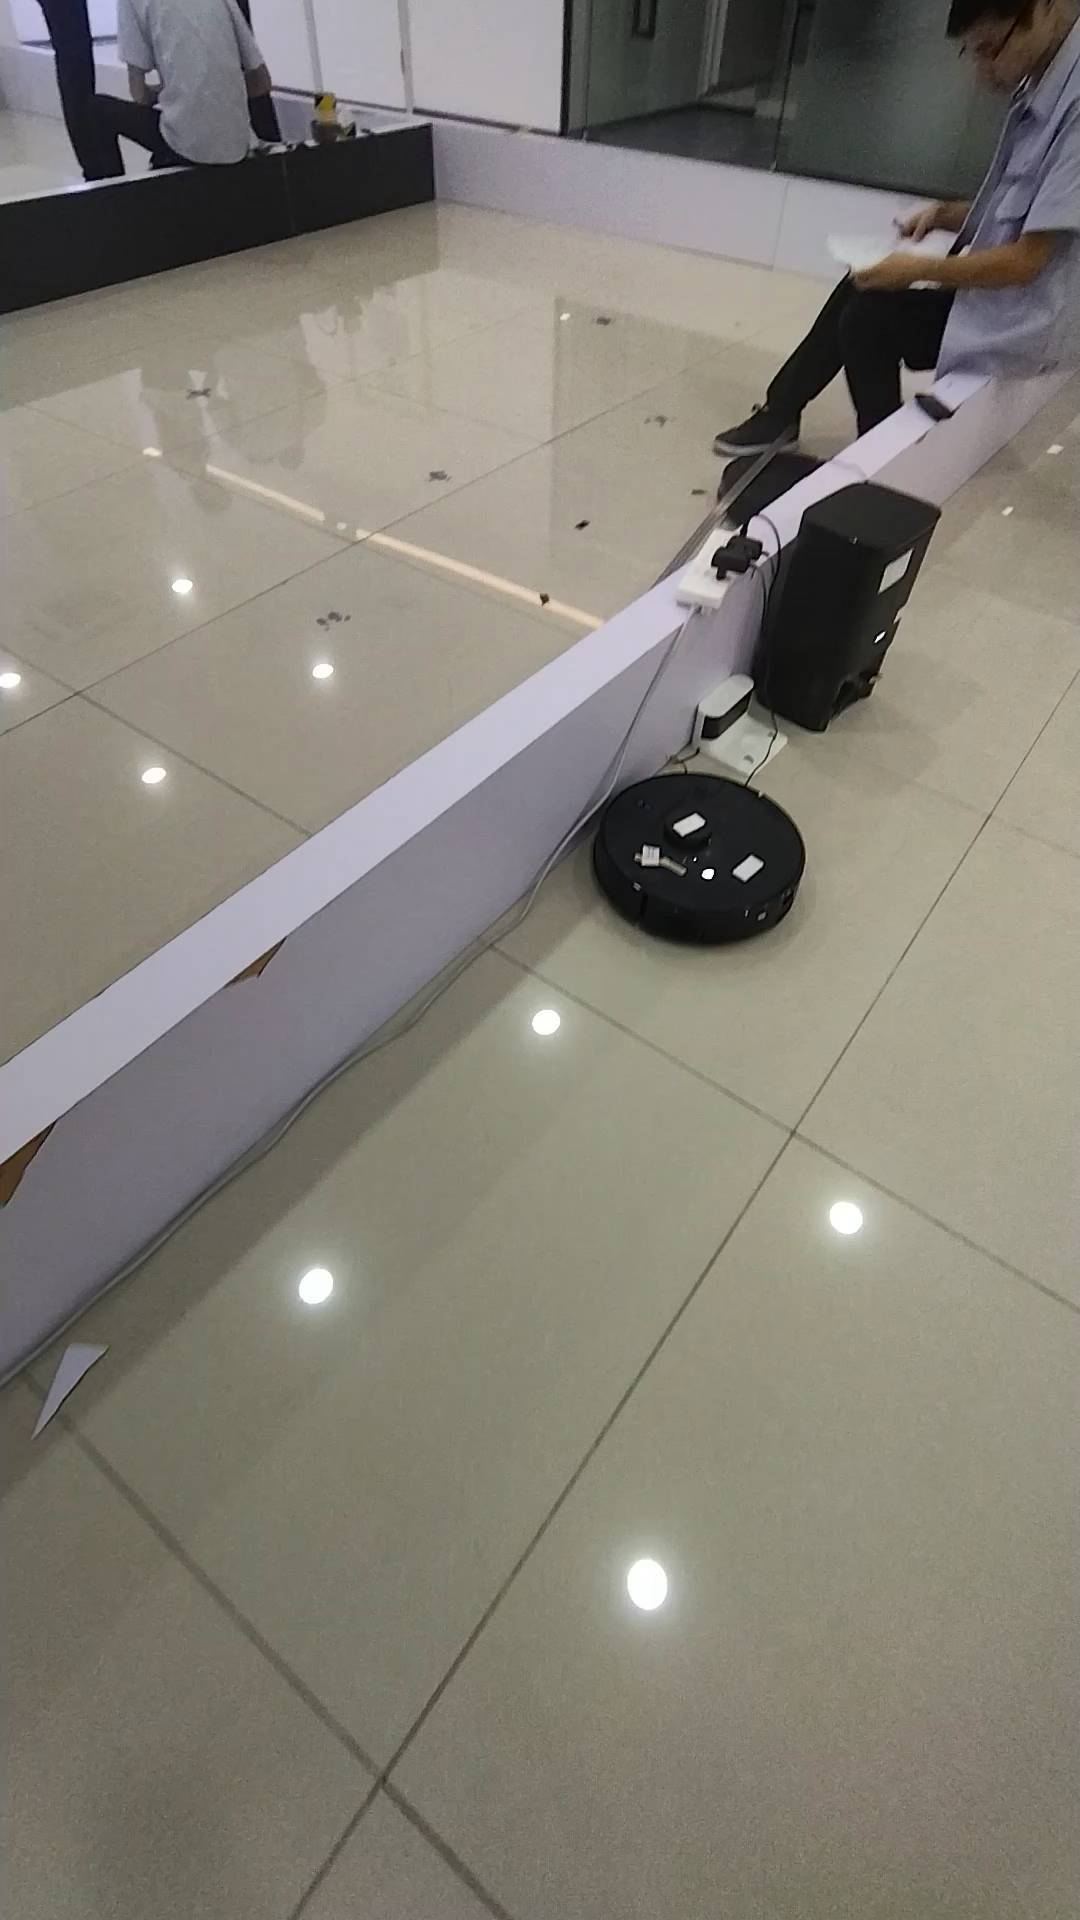dust collecting barrel: (753, 483, 945, 735), (692, 671, 787, 775)
